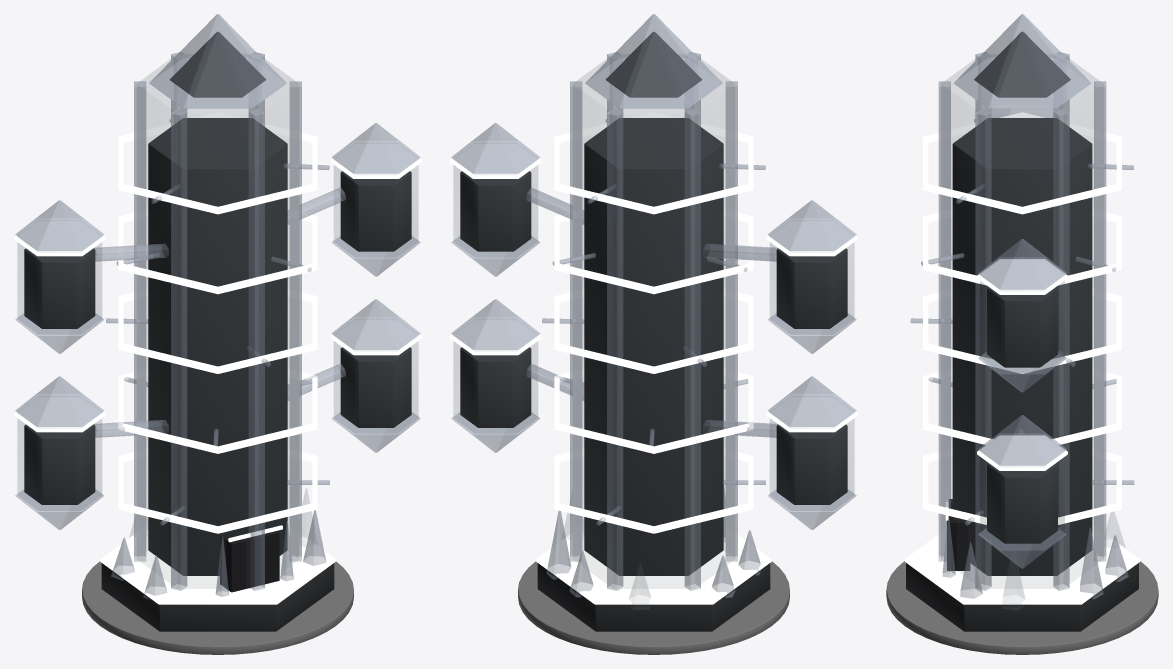
The model's file is Skin_Crystal_T4.glb.
The picture shows the model from 3 angles, left to right: view 1: azimuth 30°, elevation 25°; view 2: azimuth 150°, elevation 25°; view 3: azimuth 270°, elevation 25°; orthographic projection.
Parts seen in each view (by area): view 1: Skin_Crystal_T4; view 2: Skin_Crystal_T4; view 3: Skin_Crystal_T4.
Part boxes in pixels (x1,y1,x2,y2): Skin_Crystal_T4: (14, 14, 421, 654); Skin_Crystal_T4: (450, 14, 857, 654); Skin_Crystal_T4: (886, 14, 1158, 654).
Size of the model in its own units: 5.72 by 8.29 by 3.5.
